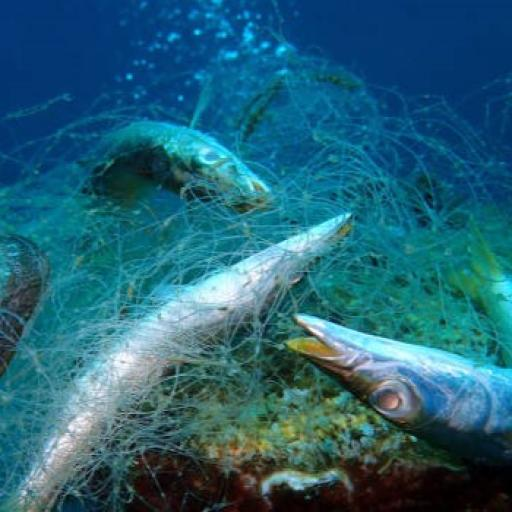net: (0, 66, 512, 494)
